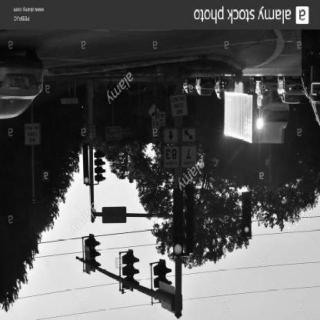other: (224, 88, 252, 144), (61, 95, 80, 107), (276, 79, 284, 102), (213, 78, 220, 102), (195, 78, 201, 98), (175, 241, 182, 255), (243, 222, 250, 236), (37, 82, 43, 92), (9, 99, 13, 108)
